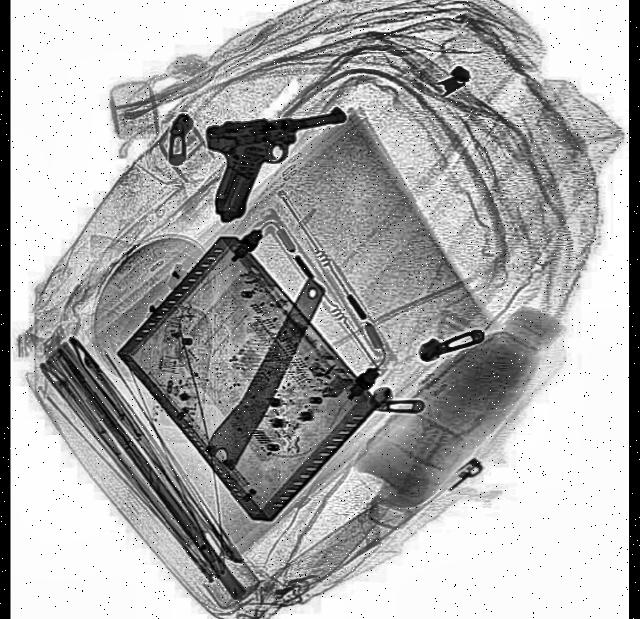Gun: (203, 104, 358, 225)
